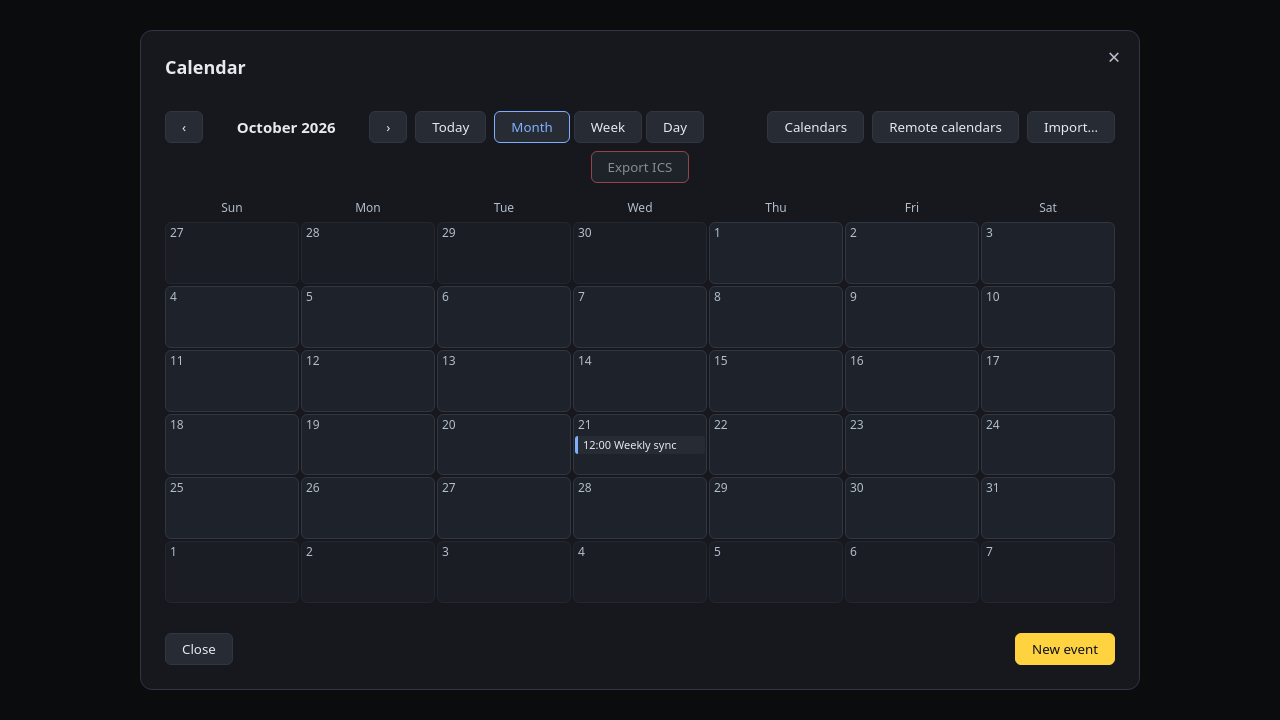
Test: CalendarModal: recurring events › asks the scope when editing a recurring occurrence
Click the button "12:00 Weekly sync": (640, 444) [575,436,705,454]
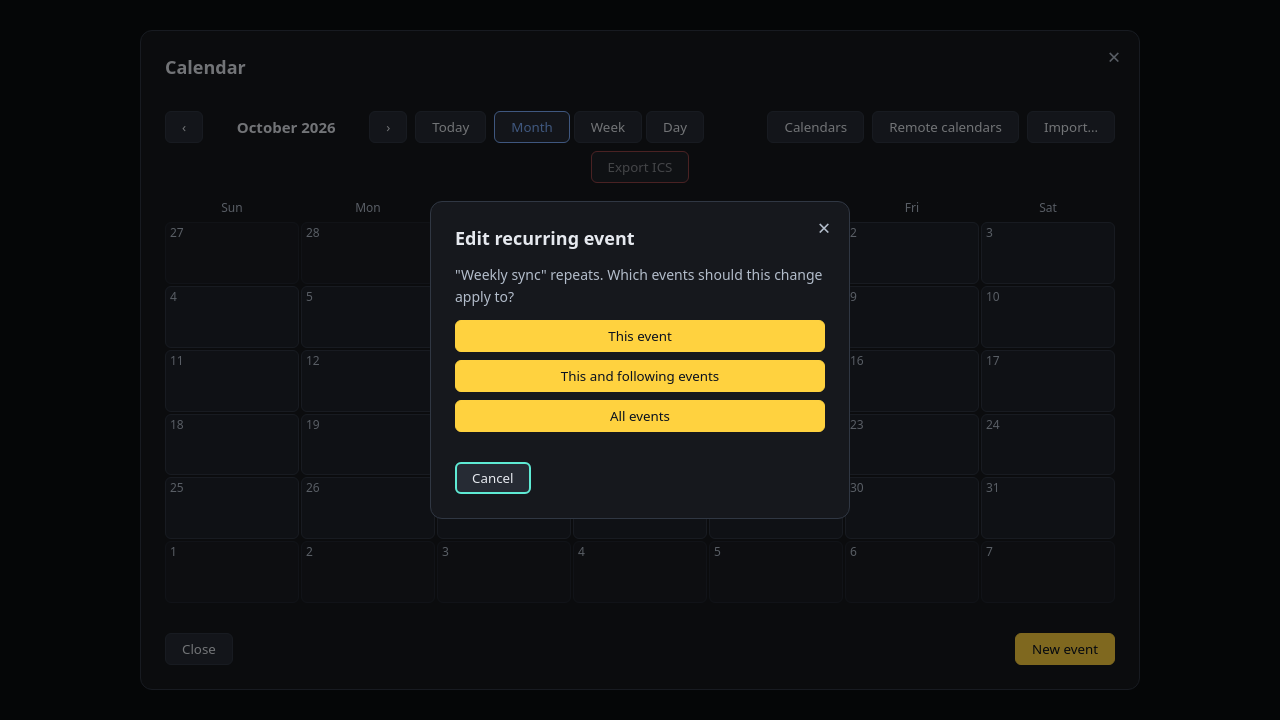
Click the button "All events": (640, 416) [455,400,825,432]
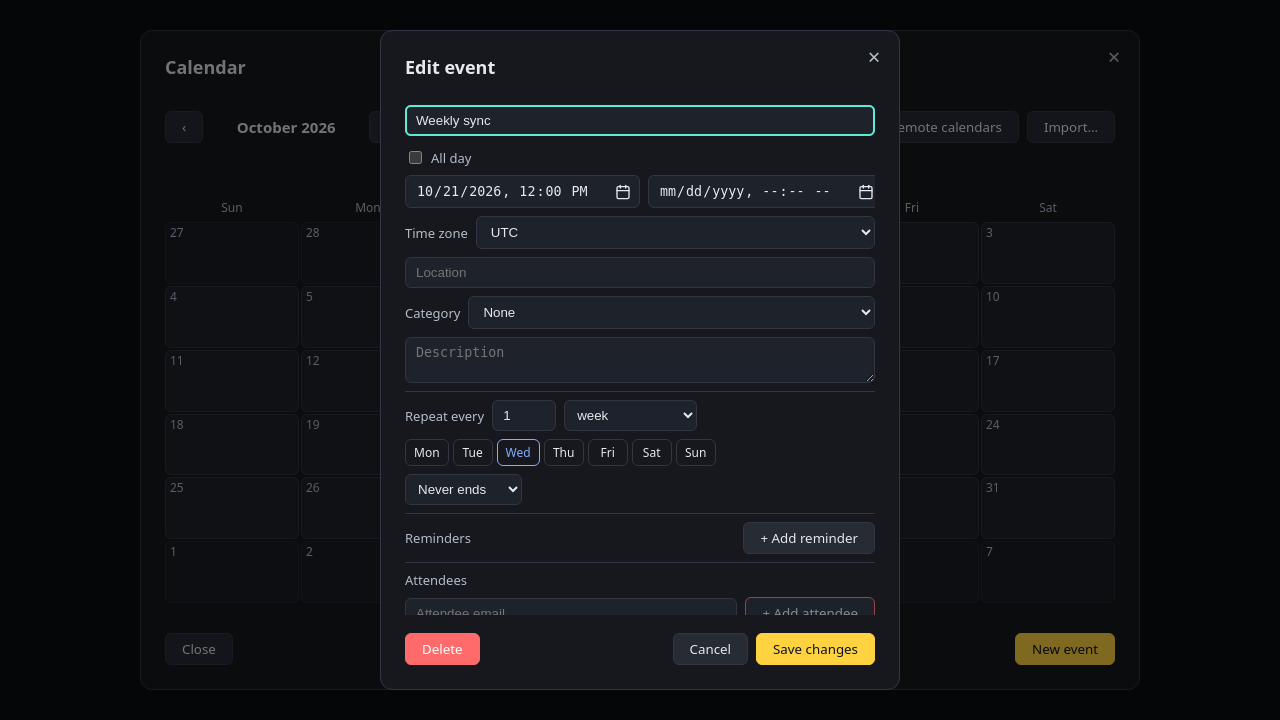
Expected: the dialog "Edit event" is shown, [380,30,900,690]
